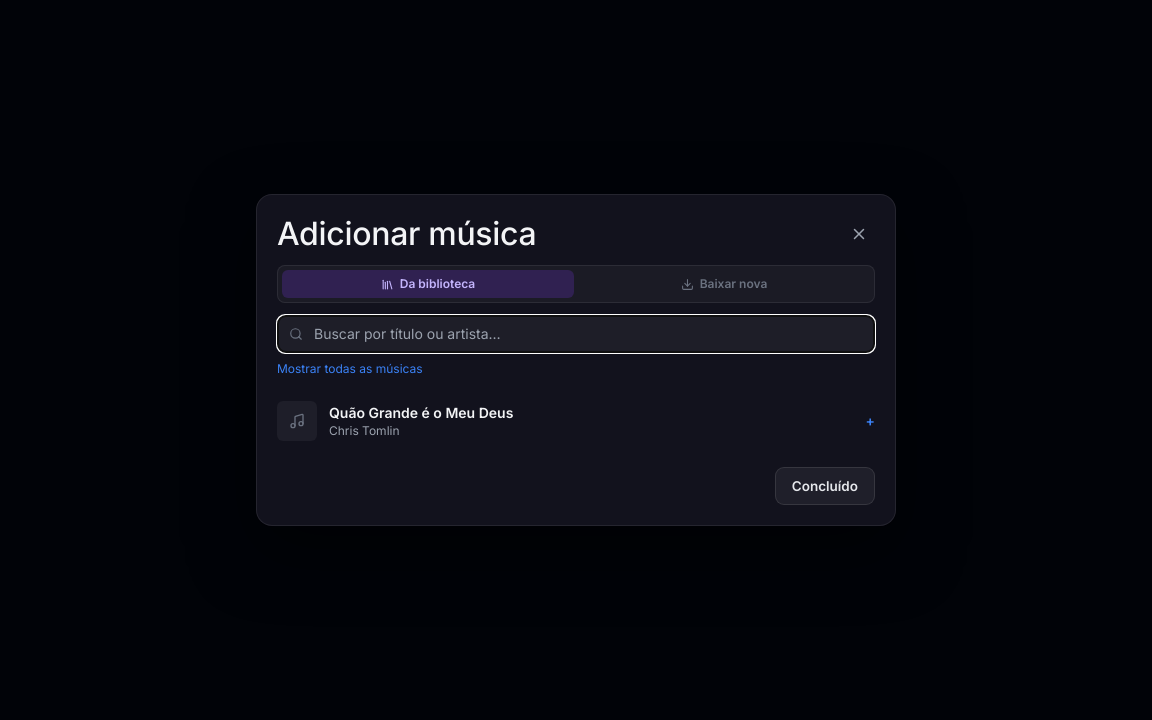
it: AddSongToPlaylistModal › "Mostrar todas as músicas" expande lista pra incluir músicas fora do ministério
Expected: the text "Quão Grande é o Meu Deus" is shown, [329, 404, 513, 421]
Click the button "Mostrar todas as músicas": (350, 369) [277, 361, 423, 377]
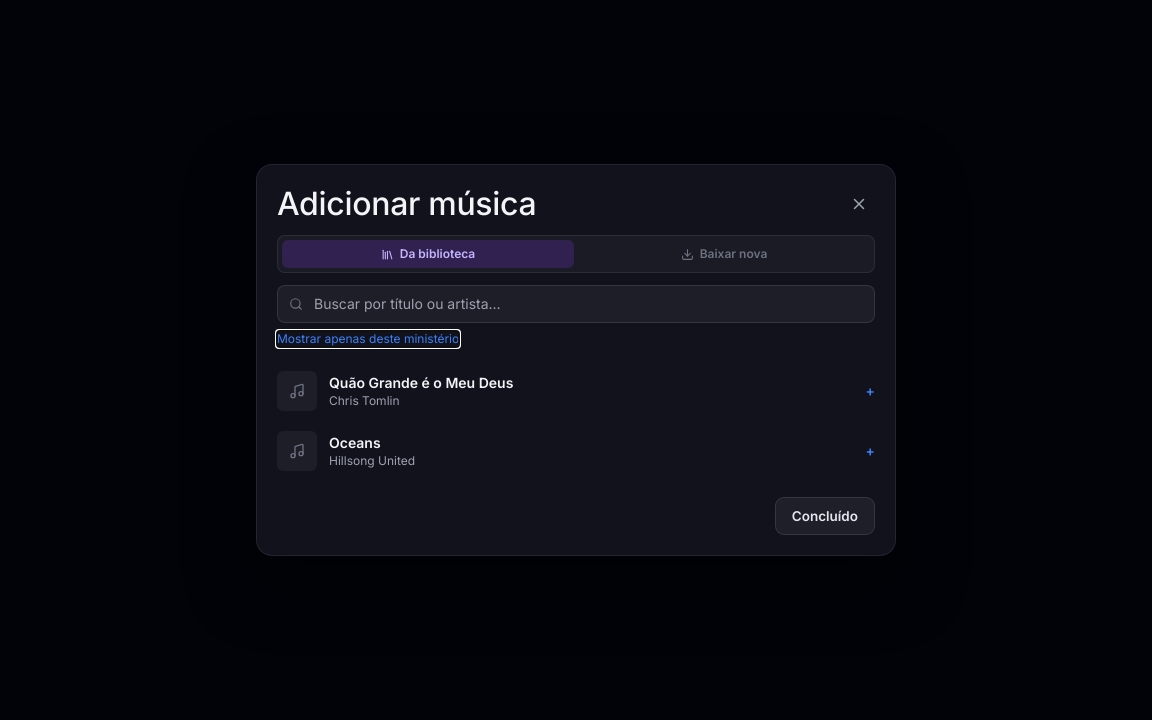
Expected: the text "Oceans" is shown, [329, 434, 381, 451]
